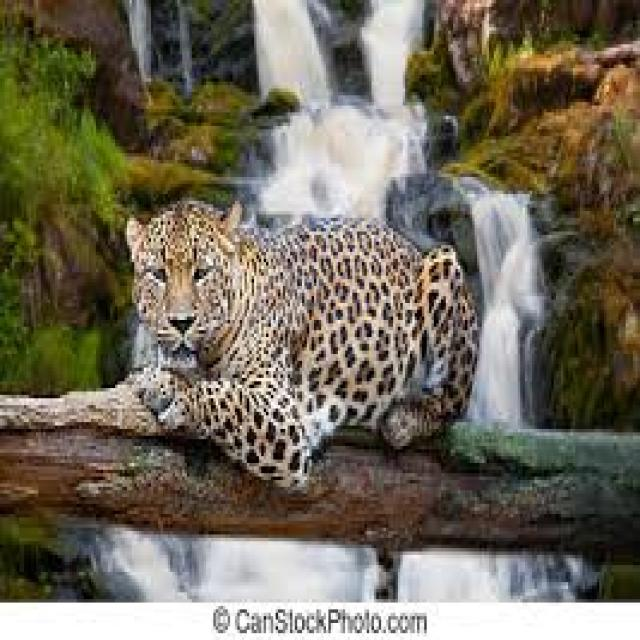Jaguar: (113, 197, 501, 480)
